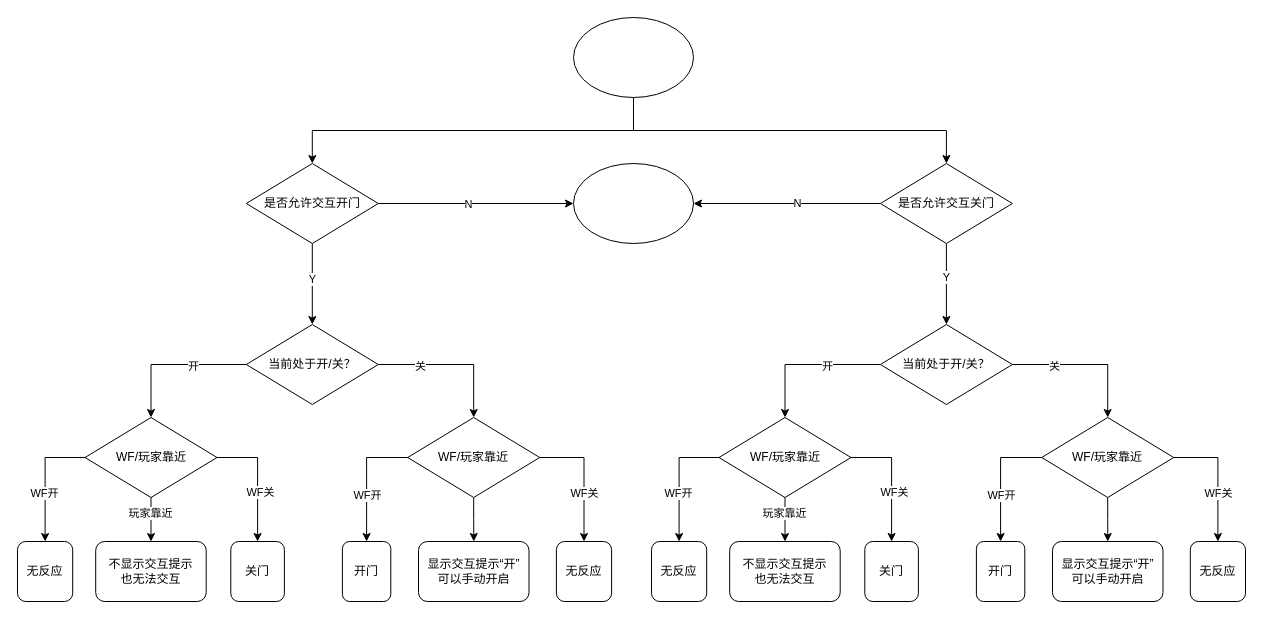
Some shapes in this 1263 by 619 pixel diagram are drawn without their labels. Each missing label, with the centre of its shape:
开始: the point at 633,57
靠近不显示交互提示 也无法手动开启: the point at 633,203
